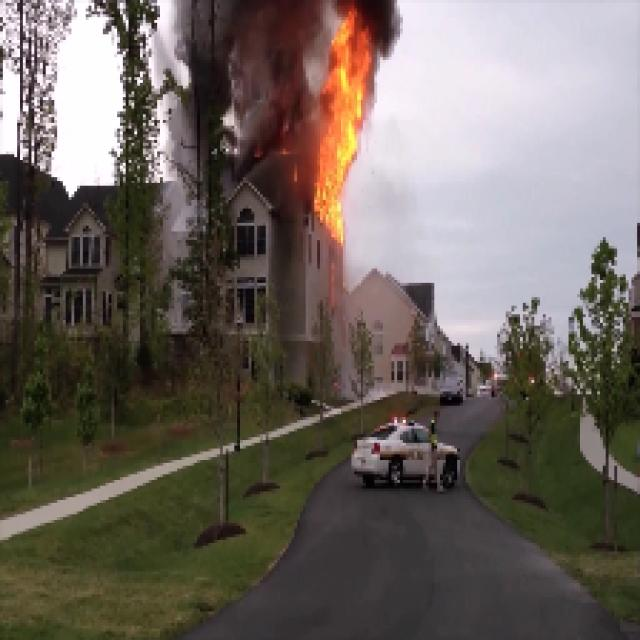fire: (190, 3, 308, 140), (318, 21, 361, 228)
